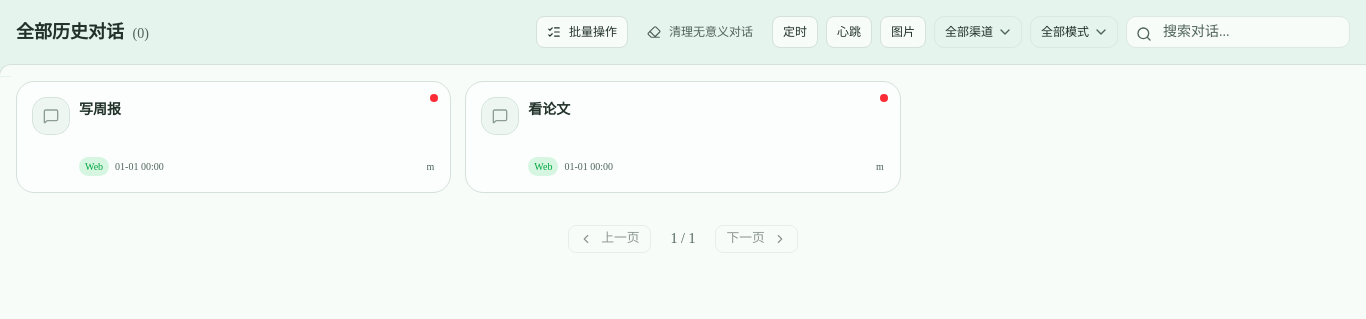
Scenario: 全部对话页 · 批量操作 › 提示语要带上 skipped（系统会话被跳过），不能只报 updated
Expected: the heading "写周报" is shown, x1=79 y1=102 x2=121 y2=117
Click the button titled "进入批量操作": (582, 32) x1=536 y1=16 x2=628 y2=48
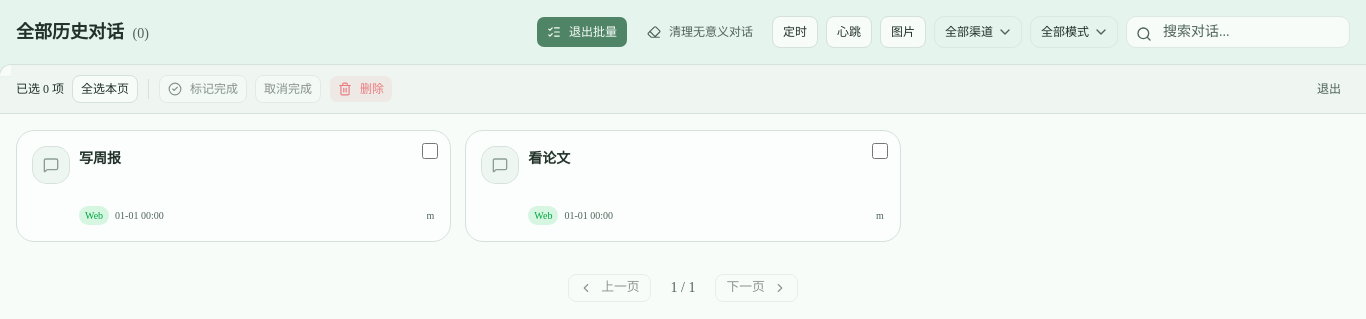
Click the checkbox named "选择对话" in the row of "写周报": (430, 151) x1=422 y1=143 x2=438 y2=159
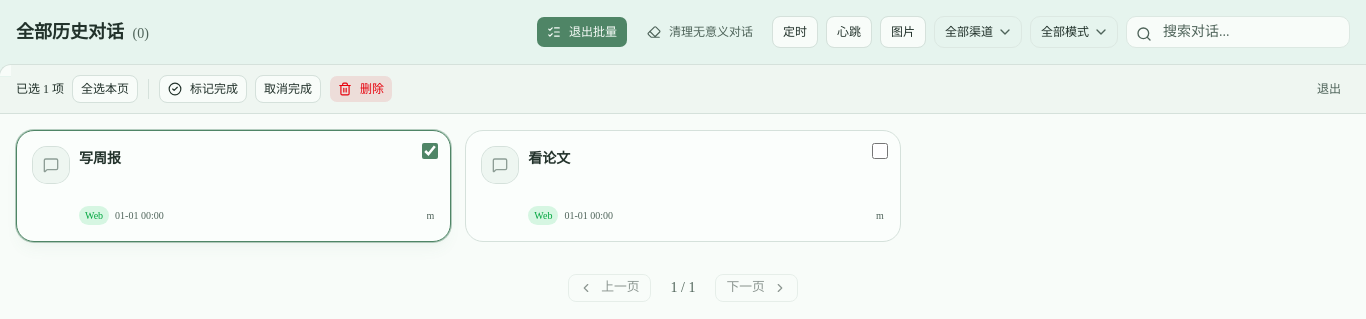
Click the button "标记完成": (203, 89) x1=159 y1=75 x2=247 y2=103
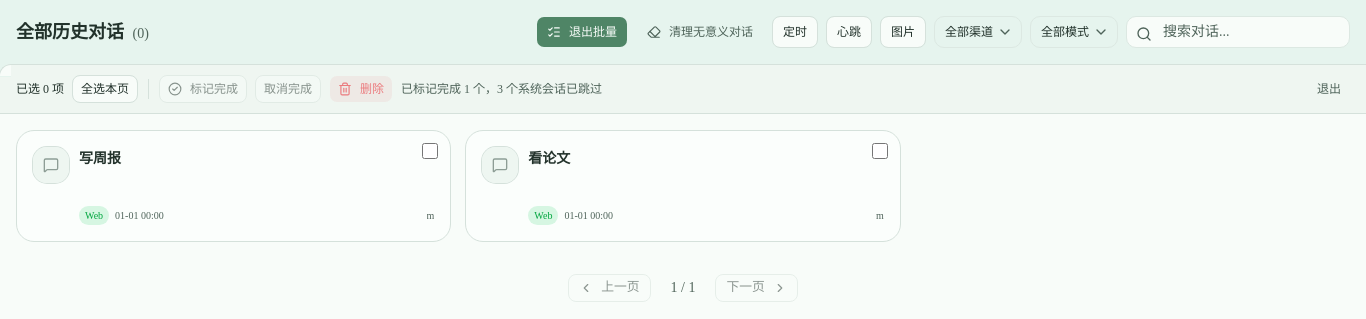
Now the text "已标记完成 1 个，3 个系统会话已跳过" is shown, box x1=401 y1=81 x2=602 y2=97
